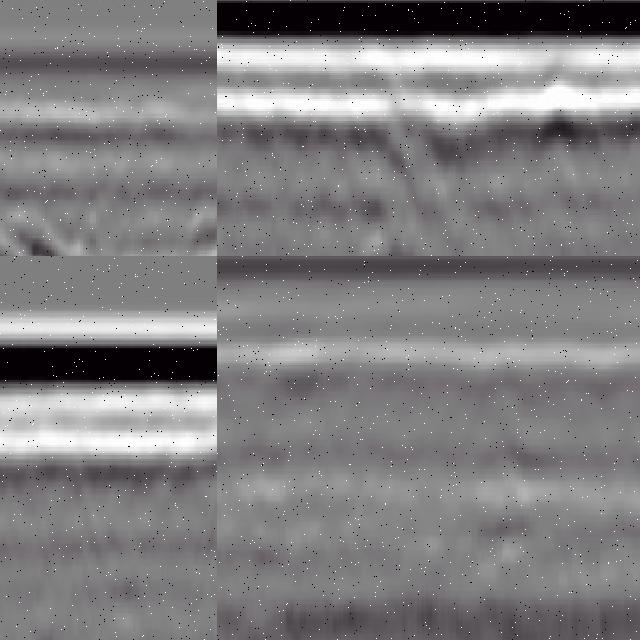loose: (326, 102, 477, 257)
